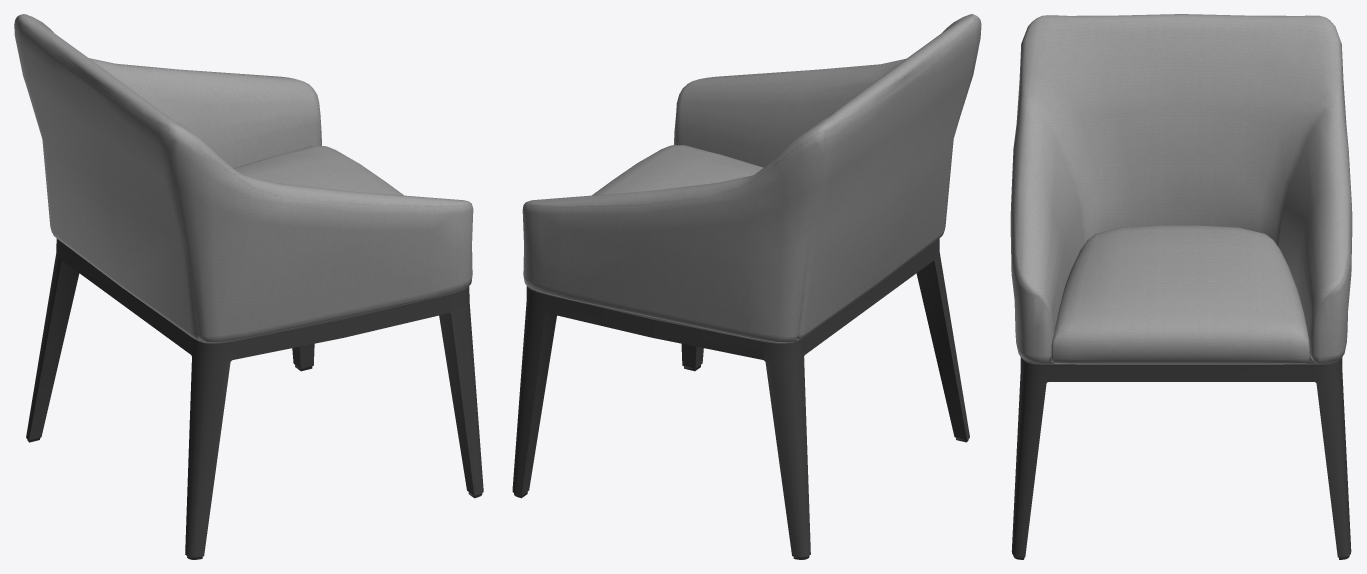
The model's file is lounge_chair.glb.
3 views of the same model, side by side, from view 1: azimuth 30°, elevation 25°; view 2: azimuth 150°, elevation 25°; view 3: azimuth 270°, elevation 25° (orthographic). The views are drawn at different scales.
Visible parts, largest first — view 1: SM_Modern_Chair_1; view 2: SM_Modern_Chair_1; view 3: SM_Modern_Chair_1.
Boxes of the visible parts, bbox=[...] form: SM_Modern_Chair_1: bbox=[14, 14, 483, 559]; SM_Modern_Chair_1: bbox=[512, 14, 981, 559]; SM_Modern_Chair_1: bbox=[1010, 14, 1352, 559].
Size of the model in its own units: 0.6374 by 0.8508 by 0.6465.
Materials: 1 (1 with a texture image).
